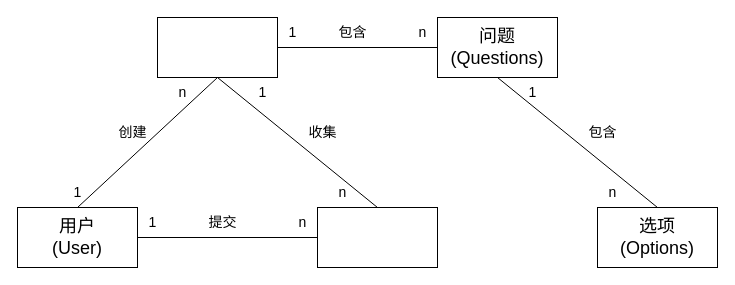
This 735x285 diagram has some shape labels left out. The shapes that lost their labels are listed below. From the top down, each one's box as (x1, y1, x2, y2) in pixels, then its label:
(156, 16, 278, 78): 问卷 (Surveys)
(316, 206, 438, 268): 回答 (Responses)
